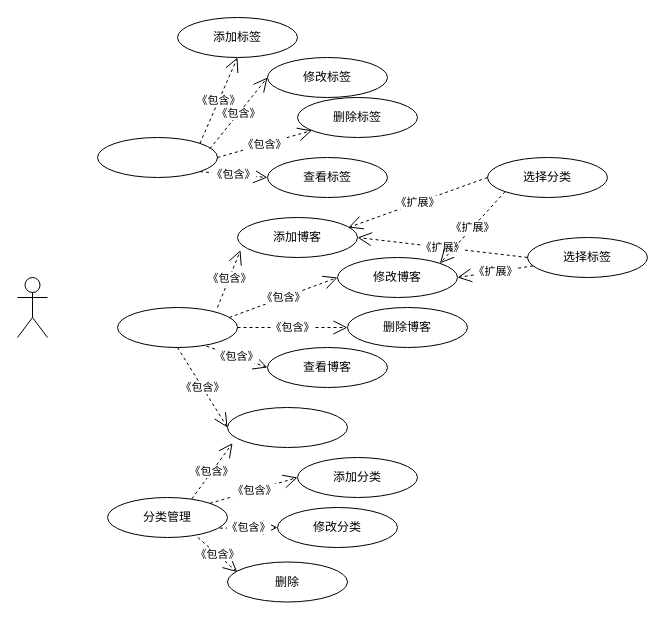
The diagram is 665 pixels wide and 620 high, and some of its shapes have lost their labels. The centre of each missing label's shape, as x and y in pixels:
Actor: [32,307]
博客管理: [177,327]
查看分类: [287,427]
标签管理: [157,157]
